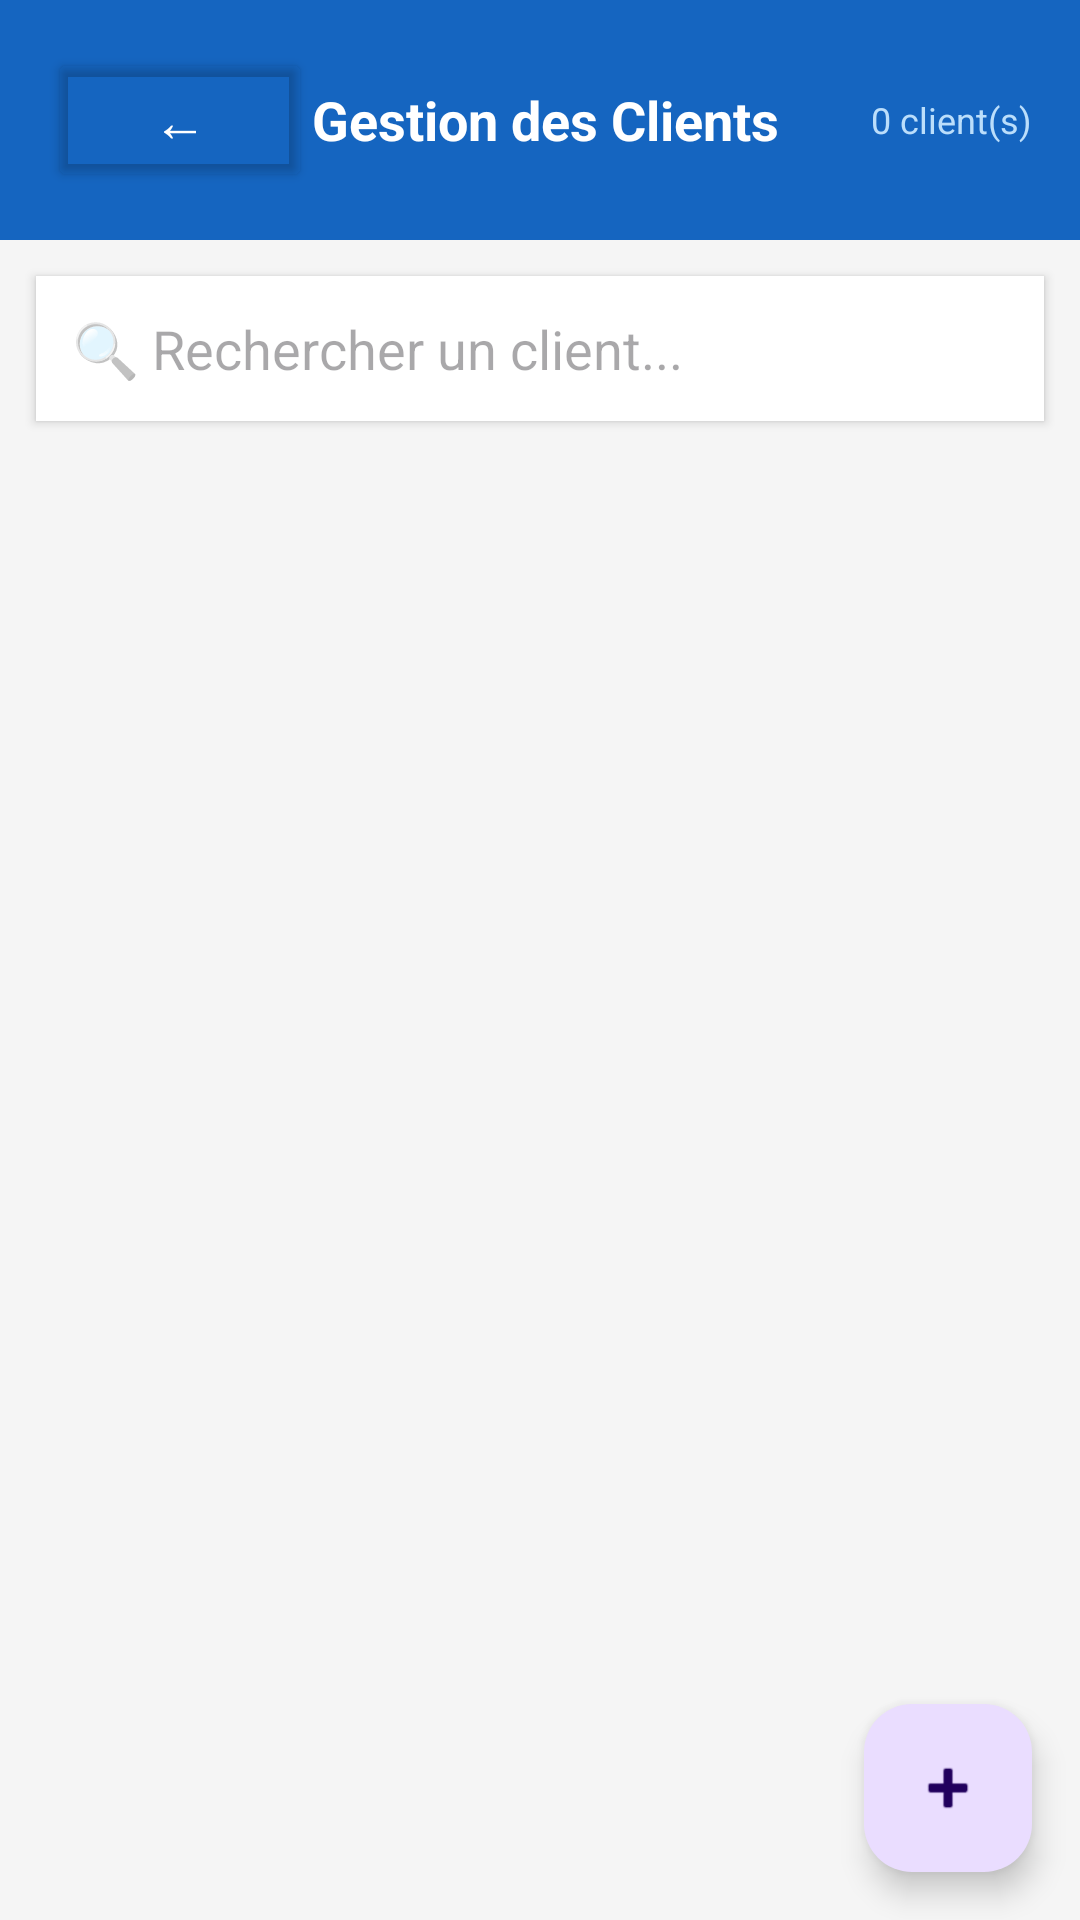

Screen size 1080w x 1920h. Icon name, then its box in pixels as bbox(x1, y1, x2, y2):
Ajouter un client: bbox(864, 1704, 1032, 1872)
